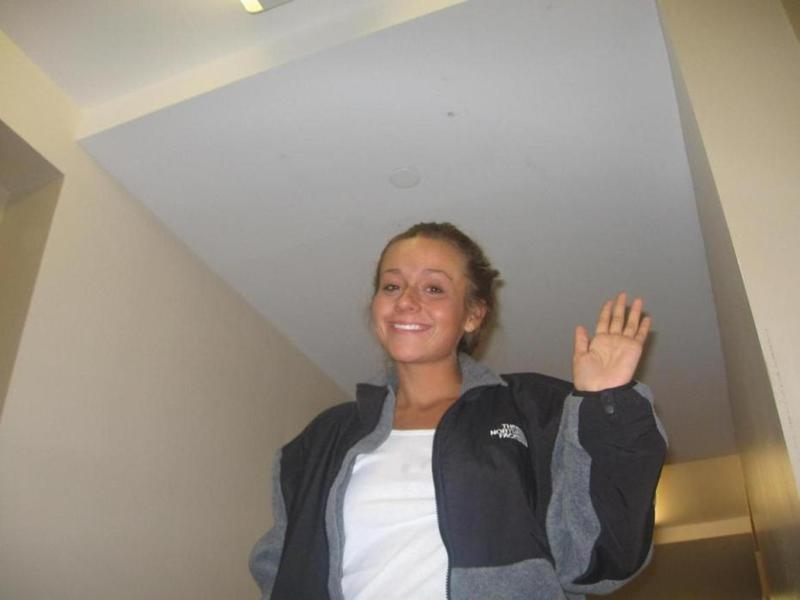person: (250, 224, 668, 600)
